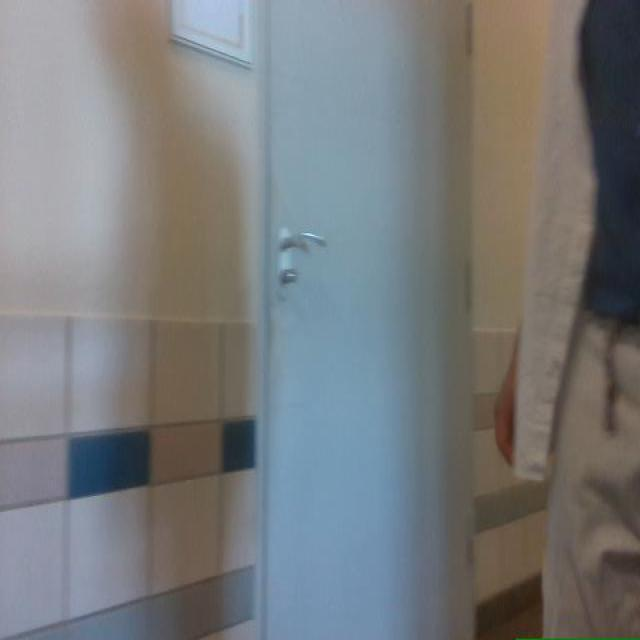humans: (495, 0, 639, 635)
objects: (259, 0, 472, 639)
